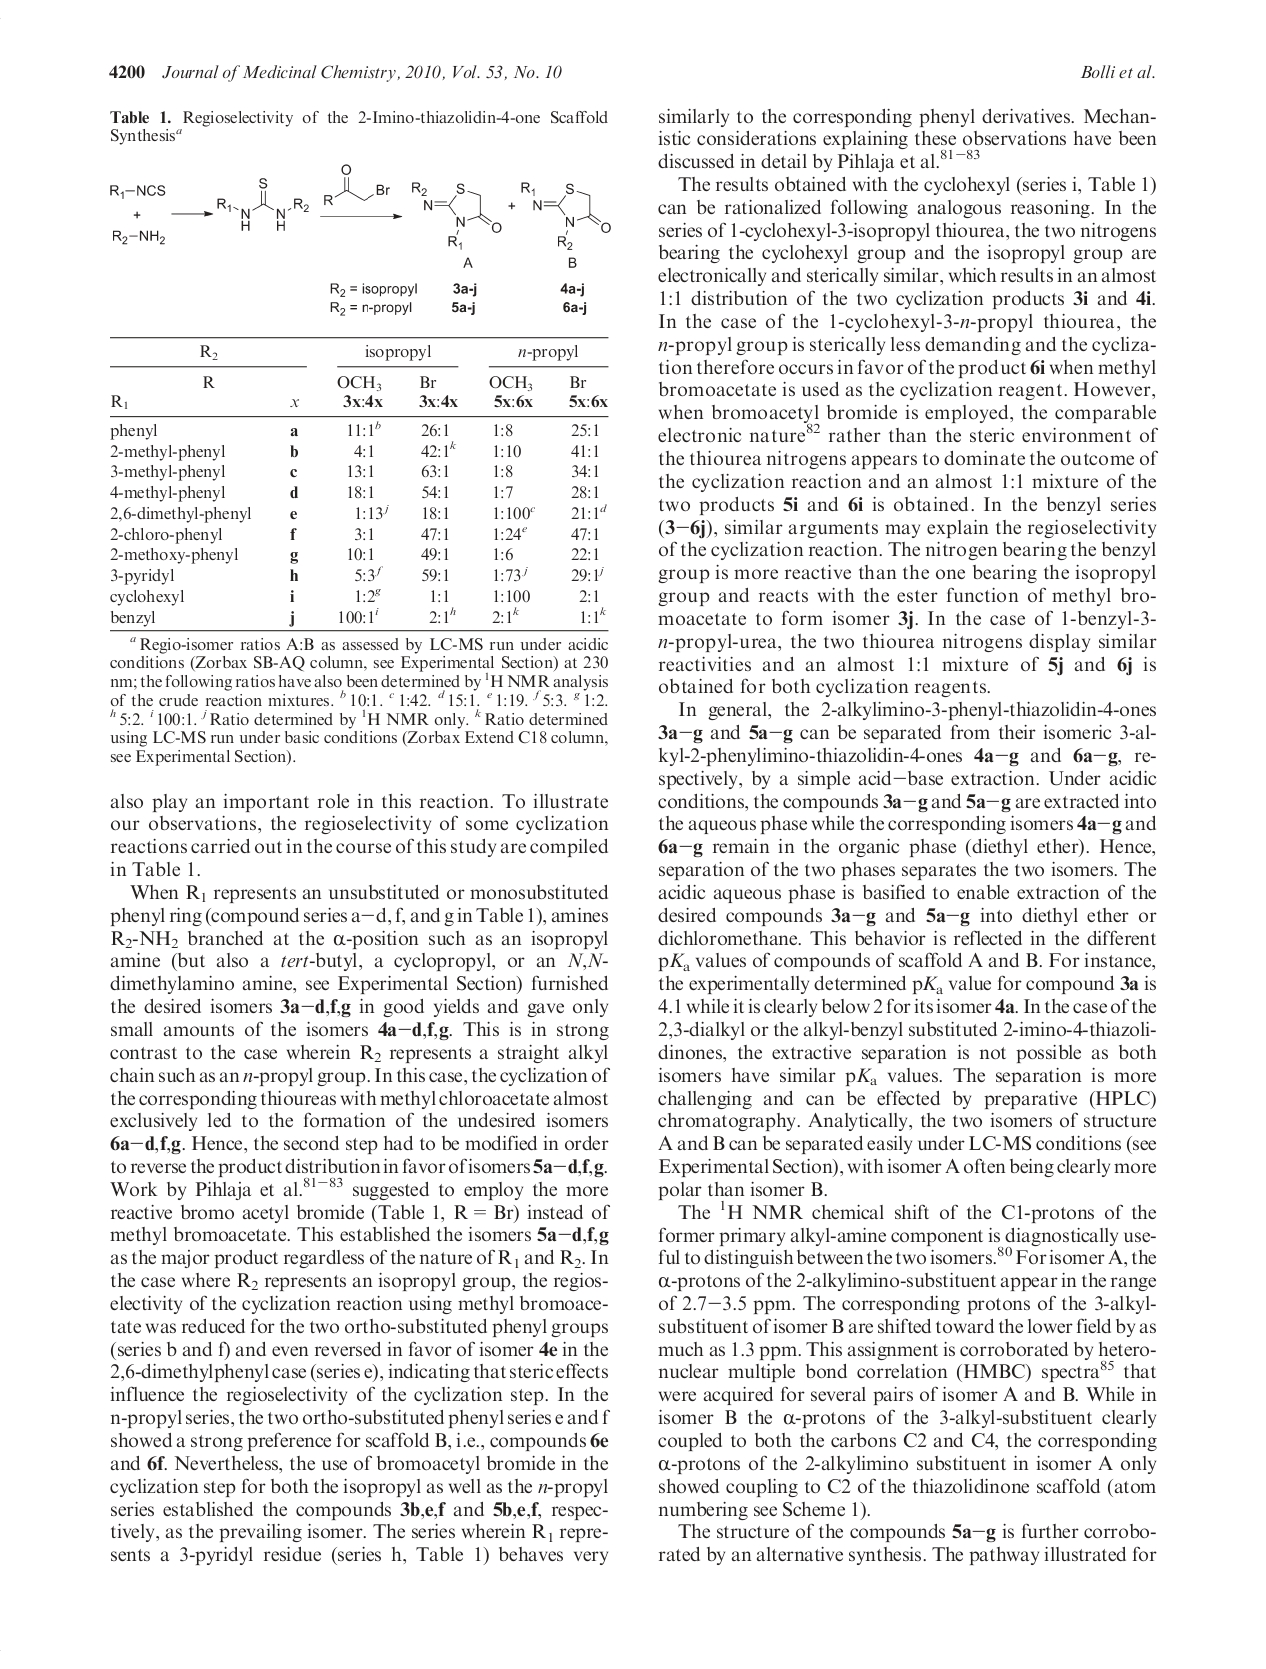exist_molecular: (520, 174, 614, 261), (404, 177, 505, 250), (214, 169, 316, 238), (320, 158, 394, 207)
